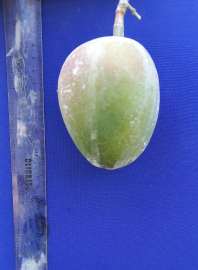Mango-sano: (58, 0, 159, 169)
